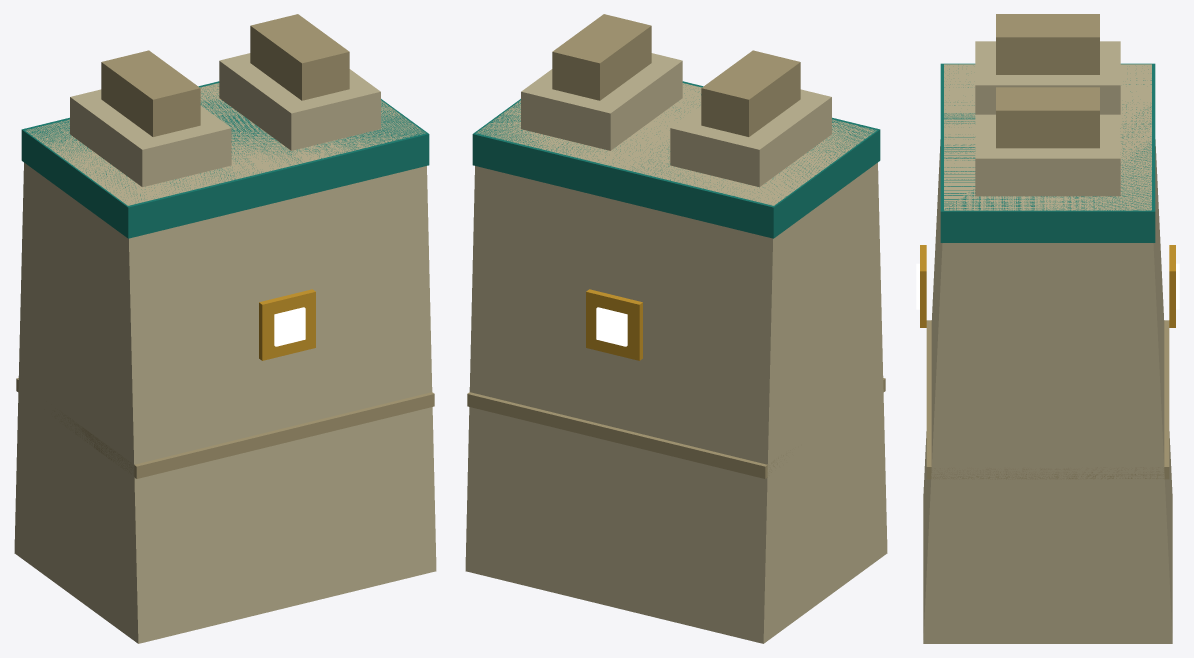
The model's file is wall_t3_seg.glb.
3 views of the same model, side by side, from view 1: azimuth 30°, elevation 25°; view 2: azimuth 150°, elevation 25°; view 3: azimuth 270°, elevation 25° (orthographic).
Parts seen in each view (by area): view 1: body, glow; view 2: body, glow; view 3: body.
Boxes of the visible parts, x1,y1,x2,y2 form: body: (14,14,436,643); glow: (274,307,305,346); body: (465,14,887,643); glow: (596,307,627,346); body: (920,14,1175,643).
Size of the model in its own units: 1.01 by 1.62 by 0.76.
